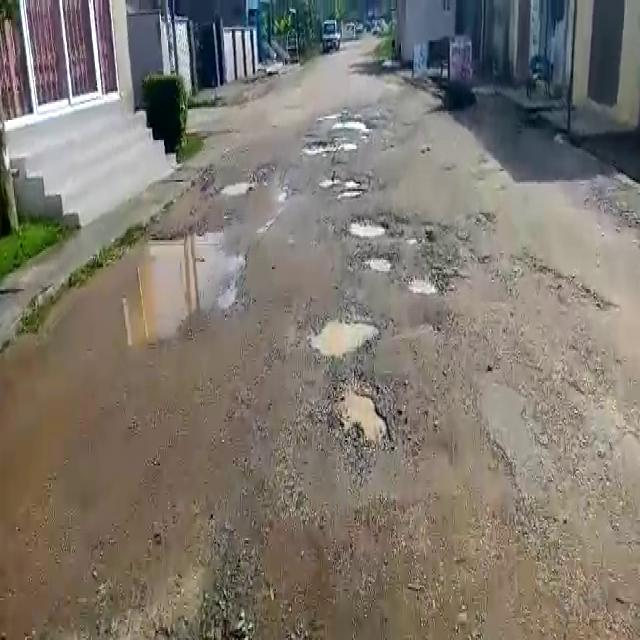Pothole: (52, 242, 245, 350), (325, 374, 399, 455), (305, 310, 383, 358), (341, 216, 390, 240), (301, 137, 360, 155), (217, 176, 255, 198), (328, 179, 372, 198), (360, 251, 398, 272), (406, 274, 439, 296)
